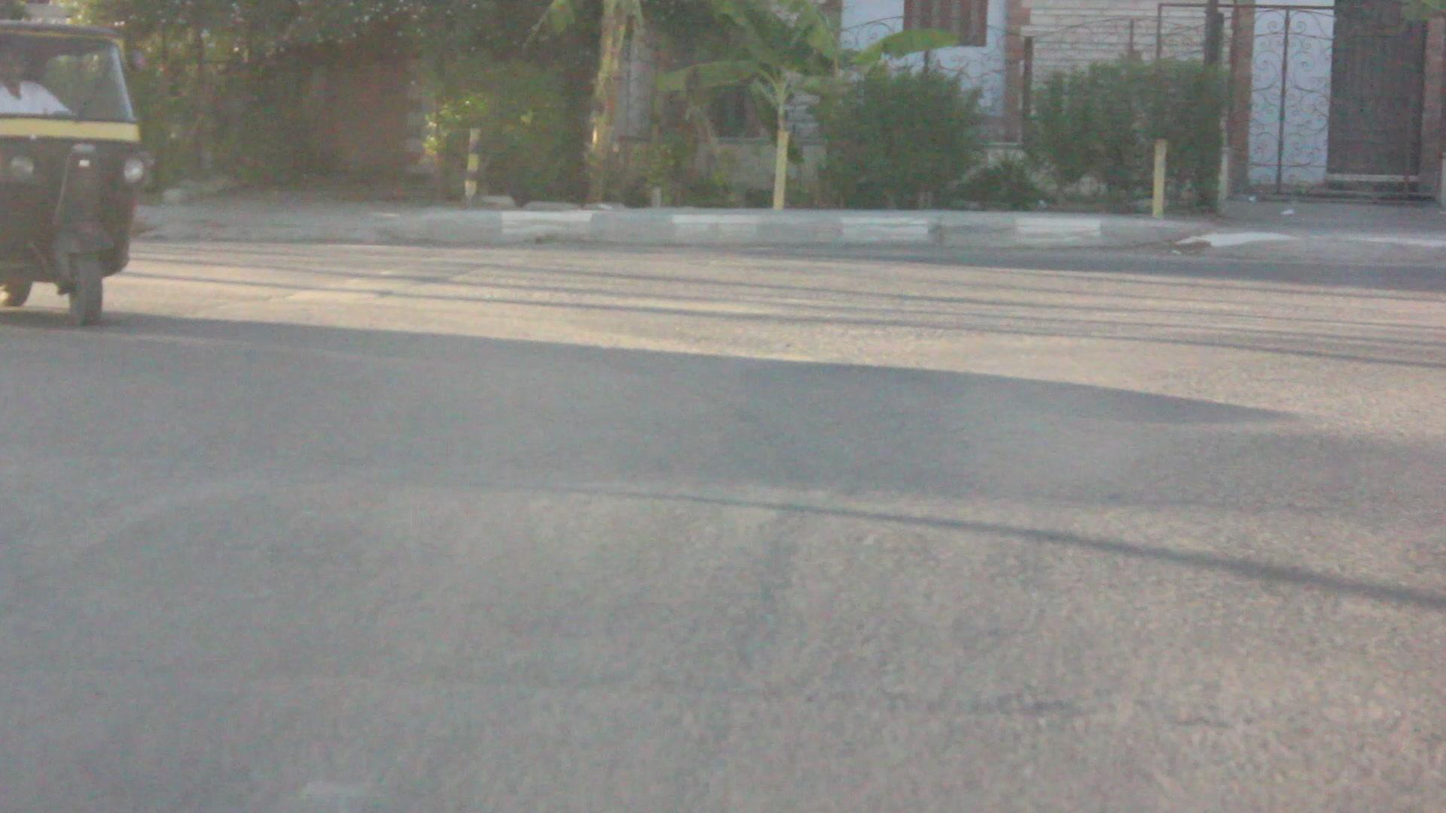Bump: (26, 459, 1446, 755)
